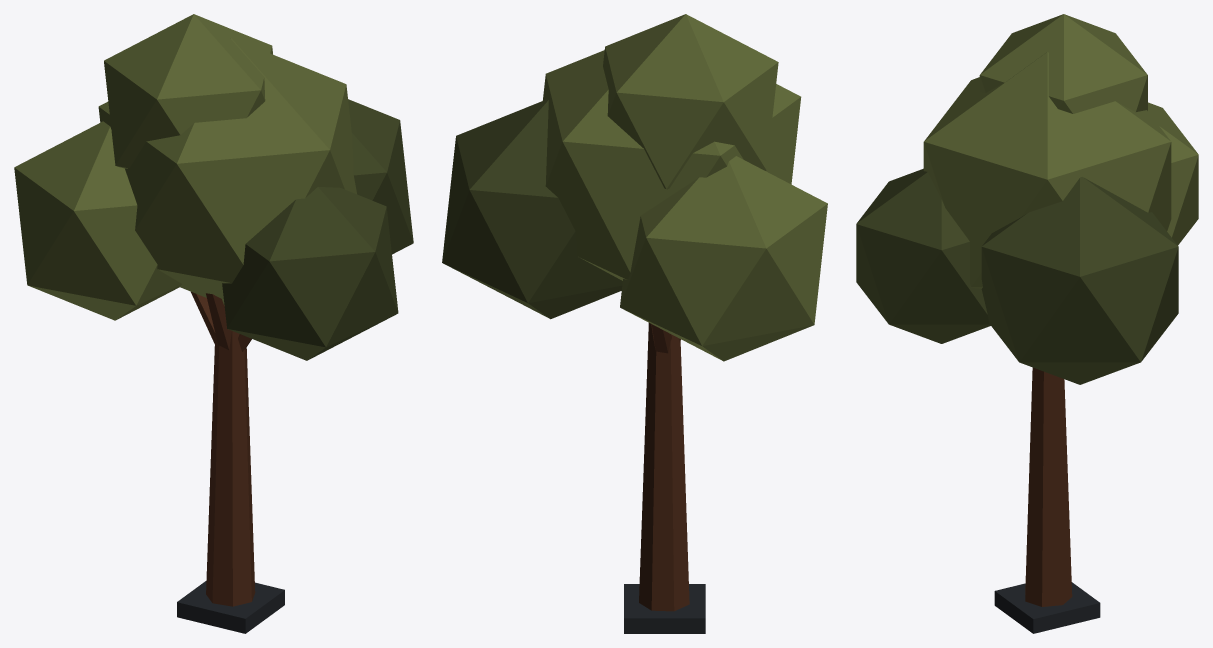
File: env_tree_leafy.fbx
3 renders of one model, left to right at view 1: azimuth 30°, elevation 25°; view 2: azimuth 150°, elevation 25°; view 3: azimuth 270°, elevation 25°, orthographic. The views are drawn at different scales.
Visible parts, largest first — view 1: env_tree_leafy; view 2: env_tree_leafy; view 3: env_tree_leafy.
Part boxes in pixels (x1,y1,x2,y2): env_tree_leafy: (14,14,413,633); env_tree_leafy: (442,14,827,633); env_tree_leafy: (856,14,1198,633).
Size of the model in its own units: 998 by 1583 by 842.
